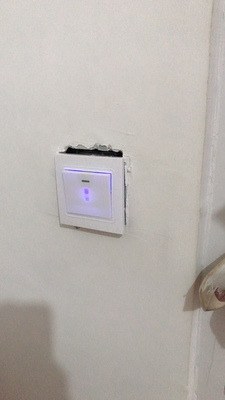switch: (55, 164, 117, 221)
